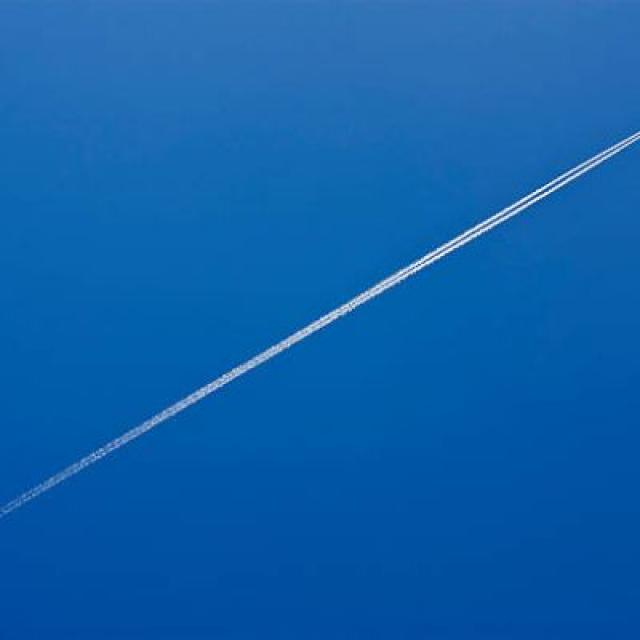Ct: (1, 60, 640, 521)
